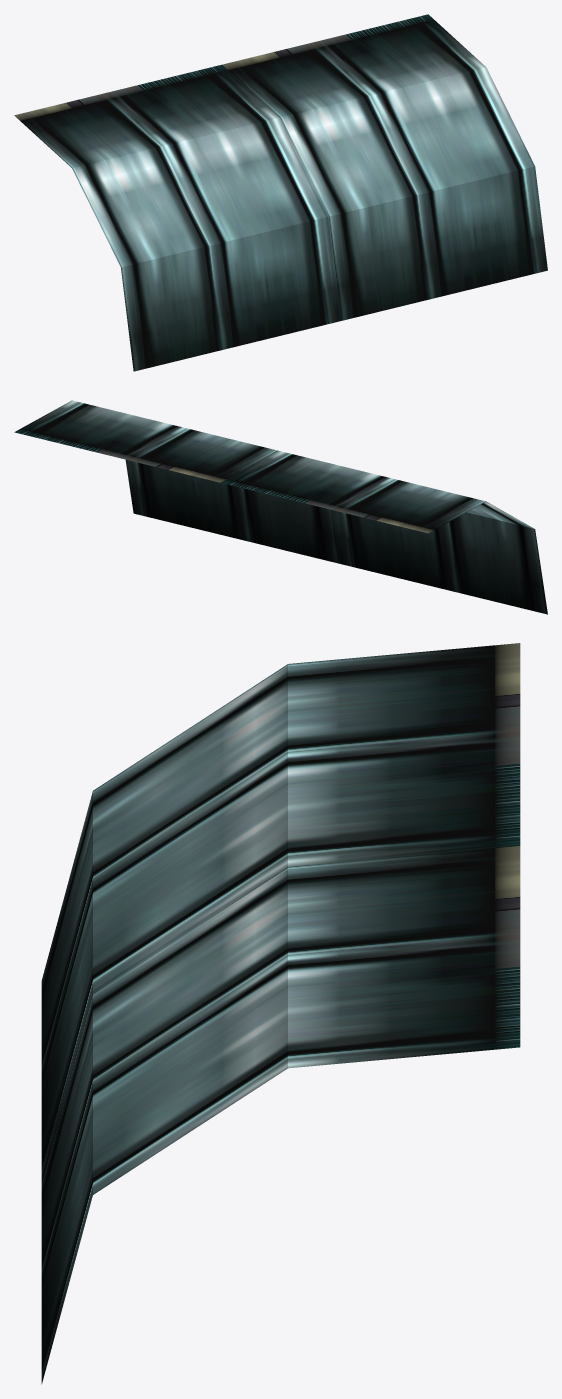
The model's file is Dach_HalbtonneBreit [Rohre]_856.glb.
The picture shows the model from 3 angles, top to bottom: view 1: azimuth 30°, elevation 25°; view 2: azimuth 150°, elevation 25°; view 3: azimuth 270°, elevation 25°; orthographic projection. The views are drawn at different scales.
Parts seen in each view (by area): view 1: polySurfaceShape1072; view 2: polySurfaceShape1072; view 3: polySurfaceShape1072.
Part boxes in pixels (bbox=[...]): polySurfaceShape1072: bbox=[14, 14, 547, 371]; polySurfaceShape1072: bbox=[14, 400, 547, 614]; polySurfaceShape1072: bbox=[41, 643, 520, 1384].
Size of the model in its own units: 1 by 0.3891 by 0.5.
Materials: 1 (1 with a texture image).
